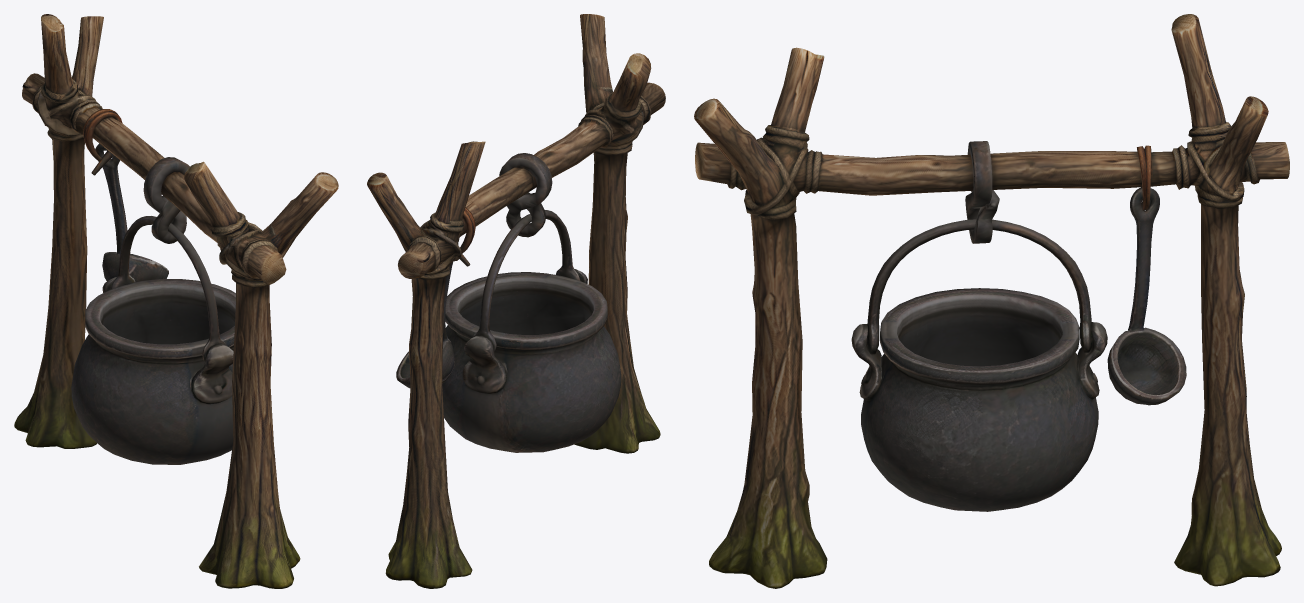
Rendered from SM_Env_SherwoodCampCookingPot.fbx.
3 views of the same model, side by side, from view 1: azimuth 30°, elevation 25°; view 2: azimuth 150°, elevation 25°; view 3: azimuth 270°, elevation 25° (orthographic). The views are drawn at different scales.
Visible parts, largest first — view 1: SM_Env_SherwoodCampCookingPot; view 2: SM_Env_SherwoodCampCookingPot; view 3: SM_Env_SherwoodCampCookingPot.
Part boxes in pixels (x1,y1,x2,y2): SM_Env_SherwoodCampCookingPot: (14, 14, 338, 588); SM_Env_SherwoodCampCookingPot: (367, 14, 665, 588); SM_Env_SherwoodCampCookingPot: (694, 14, 1289, 588).
Bounding box in the file's own units: 12.32 × 30.87 × 30.
Materials: 1 (1 with a texture image).
